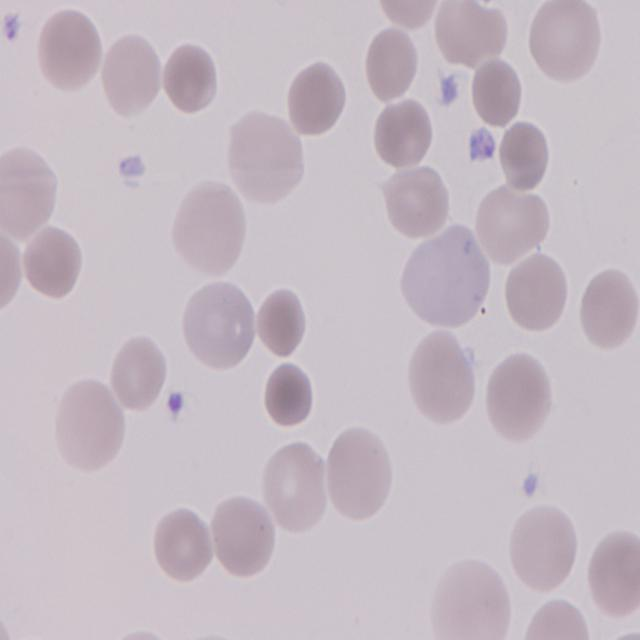Platelets: (465, 126, 495, 164), (436, 68, 464, 108)
RBC: (172, 180, 250, 282), (50, 376, 124, 478), (428, 555, 516, 640), (228, 108, 305, 205), (321, 424, 394, 524), (180, 279, 254, 377), (507, 499, 579, 598), (404, 330, 476, 429), (482, 349, 556, 444), (258, 435, 329, 534), (0, 138, 63, 239), (34, 7, 104, 95), (207, 491, 278, 577), (527, 0, 601, 82), (476, 181, 550, 263), (502, 248, 570, 334), (434, 0, 513, 70), (574, 264, 638, 349), (100, 32, 163, 118), (584, 524, 640, 618), (384, 159, 450, 238), (106, 332, 168, 412), (22, 220, 85, 296), (374, 95, 436, 172), (362, 23, 422, 102), (287, 60, 349, 136), (152, 504, 212, 582), (519, 595, 595, 640)
Spherocyte: (469, 51, 529, 127), (497, 115, 555, 192), (160, 38, 220, 112), (258, 358, 316, 432), (252, 287, 308, 357)
WBC: (398, 226, 494, 336)
